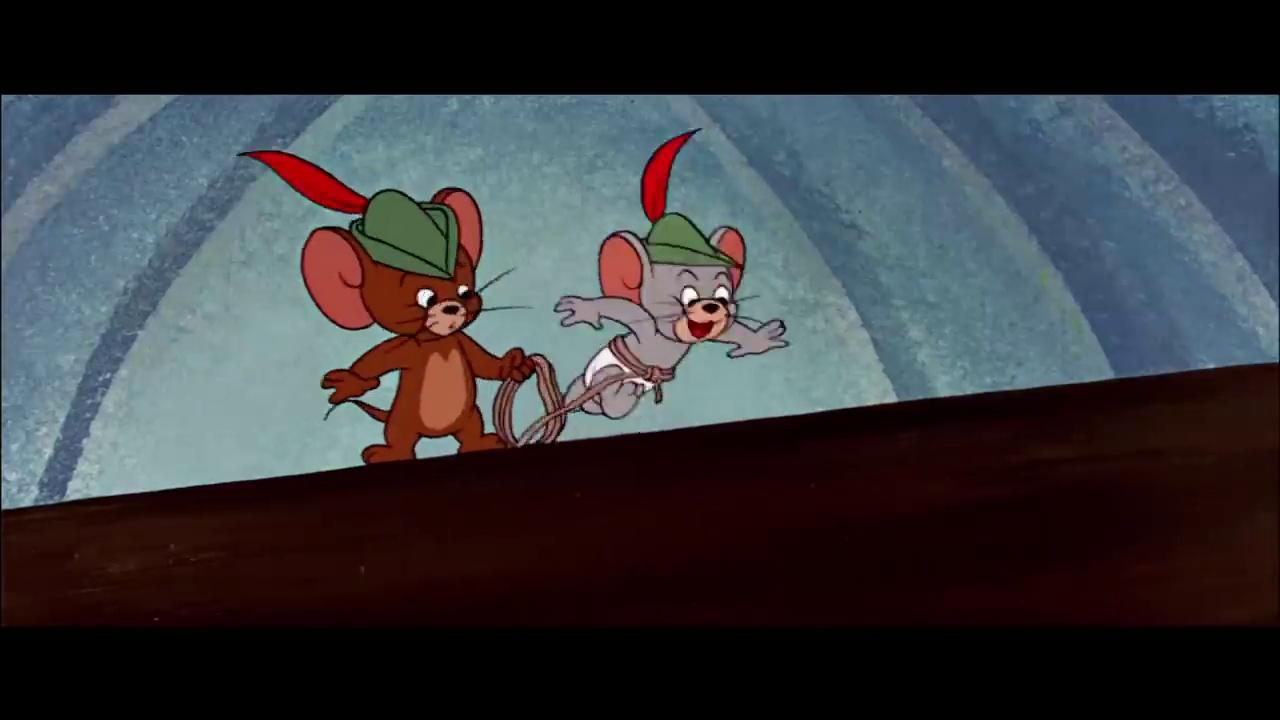Jerry: (299, 184, 536, 465)
